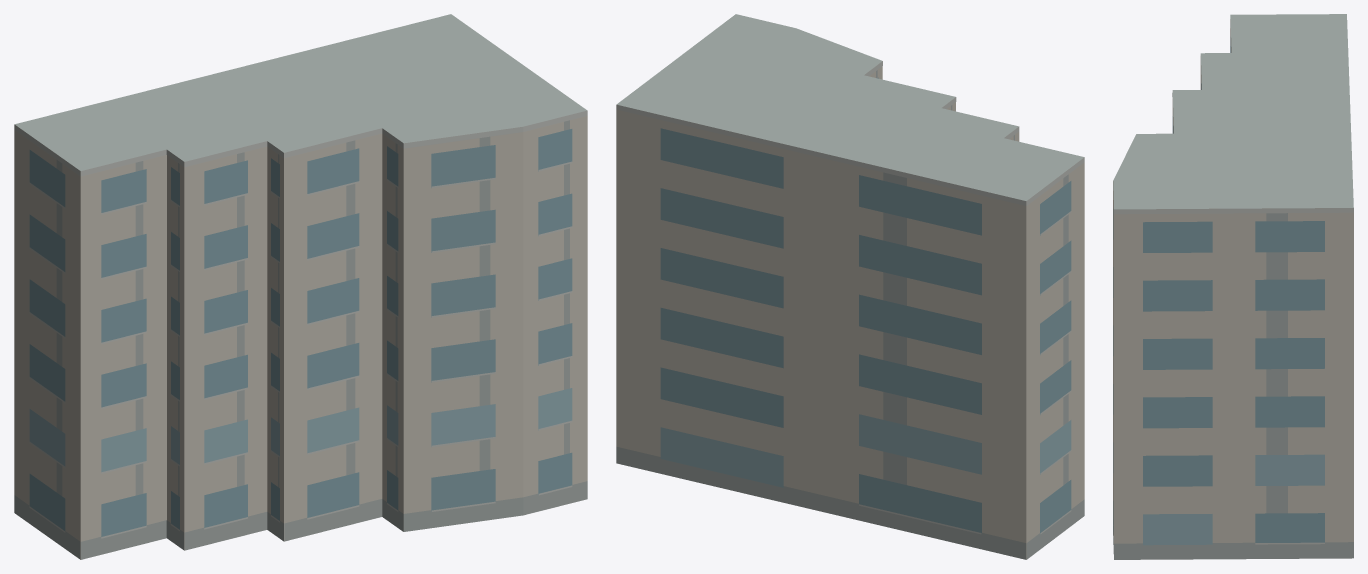
Rendered from survey-upis-32637569.glb.
The picture shows the model from 3 angles, left to right: view 1: azimuth 30°, elevation 25°; view 2: azimuth 150°, elevation 25°; view 3: azimuth 270°, elevation 25°; orthographic projection. The views are drawn at different scales.
Visible parts, largest first — view 1: survey-upis-32637569.tmp; view 2: survey-upis-32637569.tmp; view 3: survey-upis-32637569.tmp.
Part boxes in pixels (x1,y1,x2,y2): survey-upis-32637569.tmp: [14, 14, 587, 559]; survey-upis-32637569.tmp: [616, 14, 1084, 559]; survey-upis-32637569.tmp: [1113, 14, 1353, 559].
Bounding box in the file's own units: 21.11 × 17.65 × 11.
